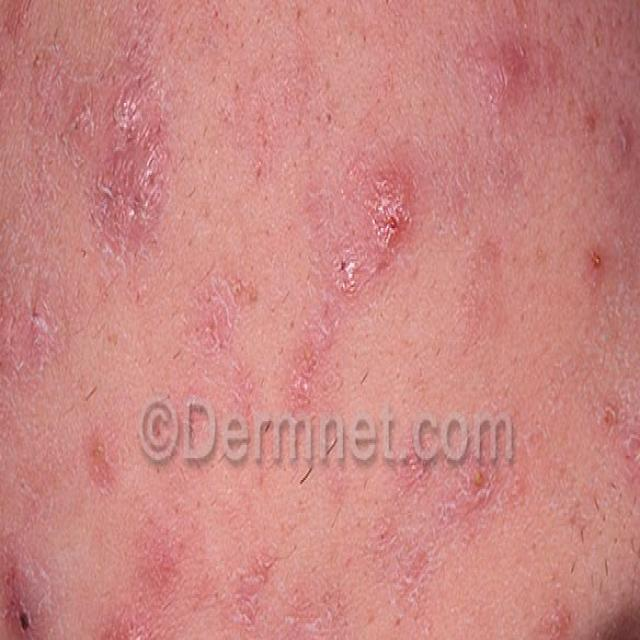Acne: (475, 25, 640, 303), (381, 441, 580, 640), (284, 146, 426, 402), (95, 544, 353, 640), (77, 47, 188, 252), (0, 211, 72, 410), (178, 266, 266, 425), (0, 529, 70, 640), (598, 396, 640, 521), (82, 426, 124, 512)
